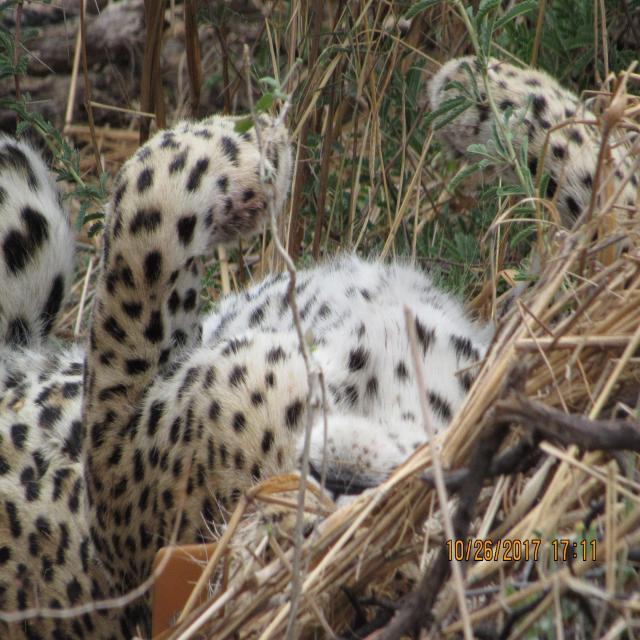Leopard: (0, 19, 639, 626)
